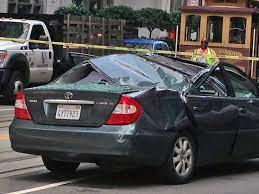quaterpanel-dent: (132, 84, 194, 157)
roof-dent: (98, 47, 226, 86)
